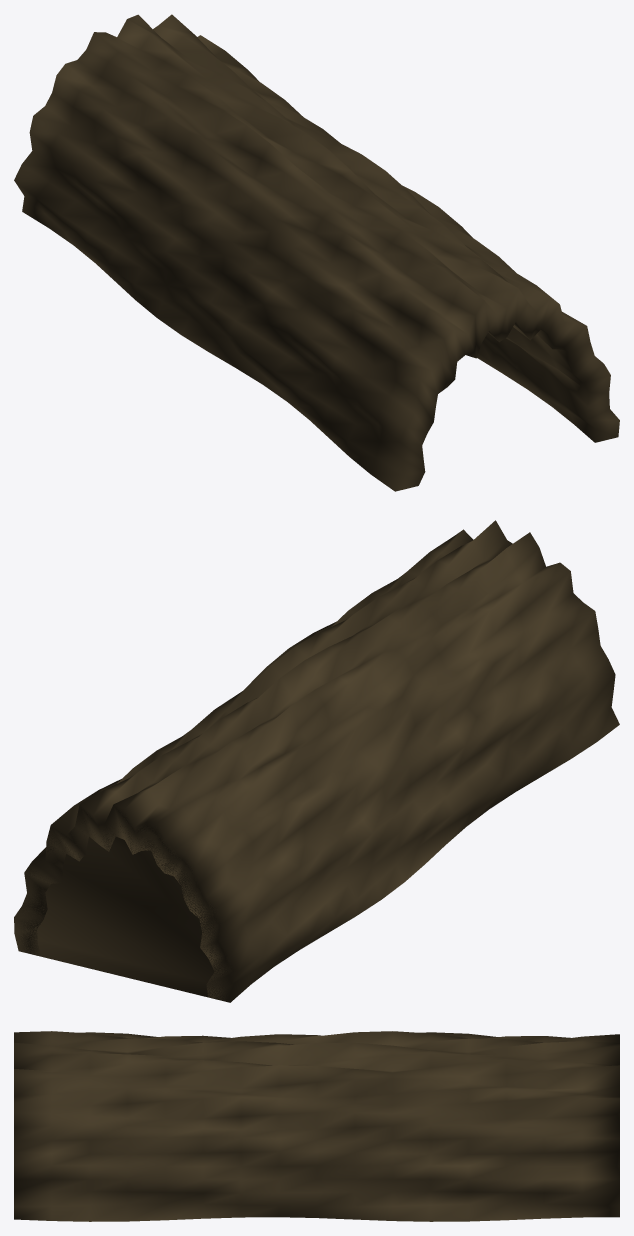
File: shelter.glb
The picture shows the model from 3 angles, top to bottom: view 1: azimuth 30°, elevation 25°; view 2: azimuth 150°, elevation 25°; view 3: azimuth 270°, elevation 25°; orthographic projection. The views are drawn at different scales.
Visible parts, largest first — view 1: Hollow driftwood refuge; view 2: Hollow driftwood refuge; view 3: Hollow driftwood refuge.
Boxes of the visible parts, left/top/right/bottom form: Hollow driftwood refuge: left=14, top=14, right=619, bottom=491; Hollow driftwood refuge: left=14, top=520, right=619, bottom=1002; Hollow driftwood refuge: left=14, top=1031, right=619, bottom=1221.
Size of the model in its own units: 0.8106 by 0.5779 by 2.3.
